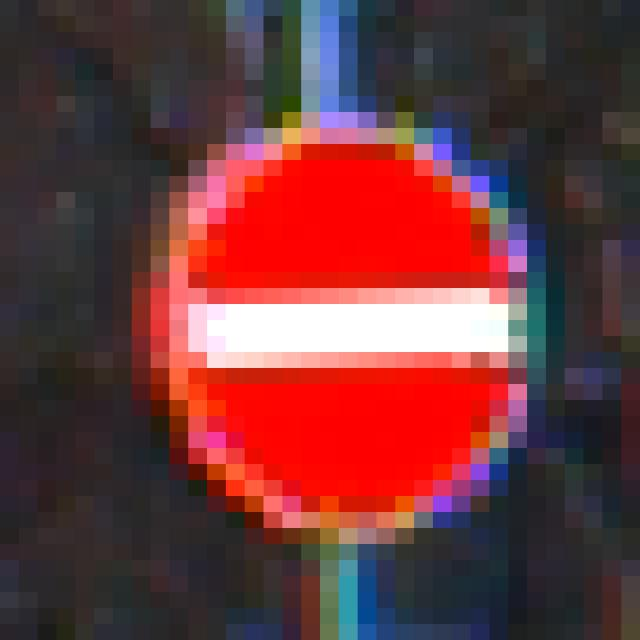No Entry: (114, 81, 547, 561)
